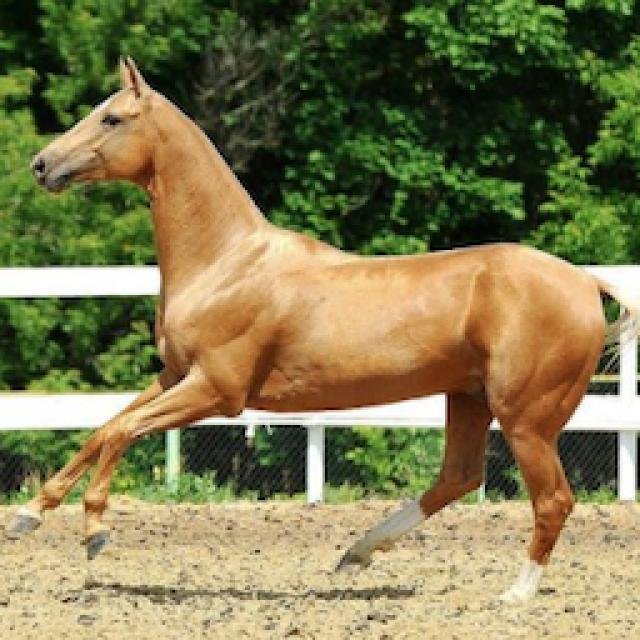Horse: (0, 50, 638, 608)
